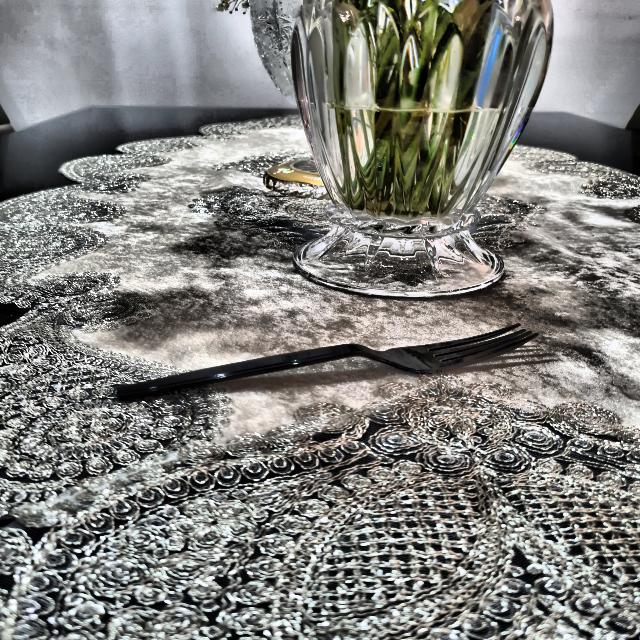plastic utensil: (112, 319, 540, 412)
